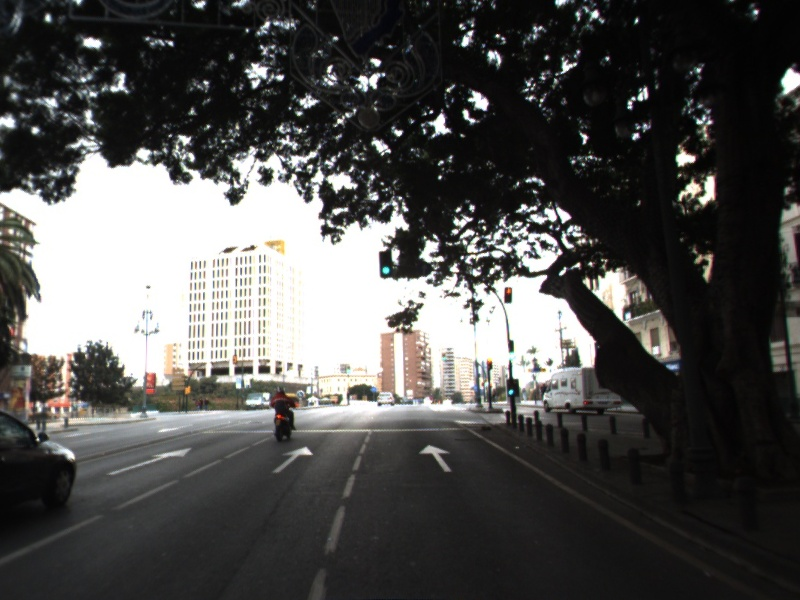STRAIGHT: (104, 445, 194, 477), (270, 444, 315, 475), (417, 442, 455, 474)
